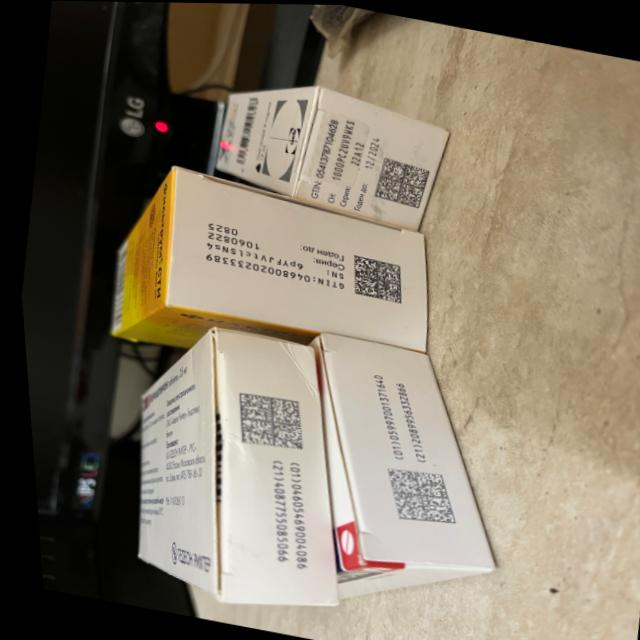datamatrix: (371, 463, 457, 528), (224, 389, 306, 453), (369, 155, 431, 207), (344, 254, 405, 302)
